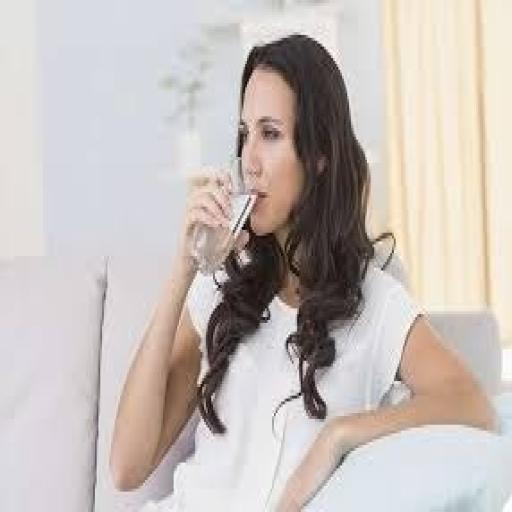drinking: (188, 154, 258, 276)
